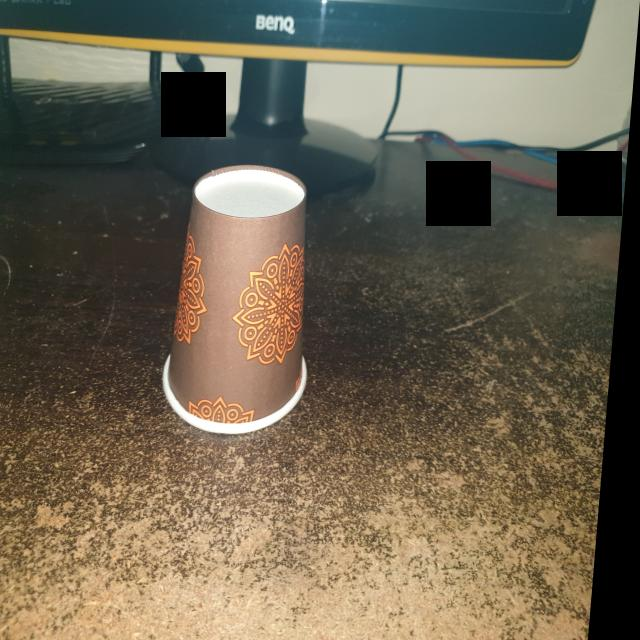cups: (161, 161, 333, 434)
